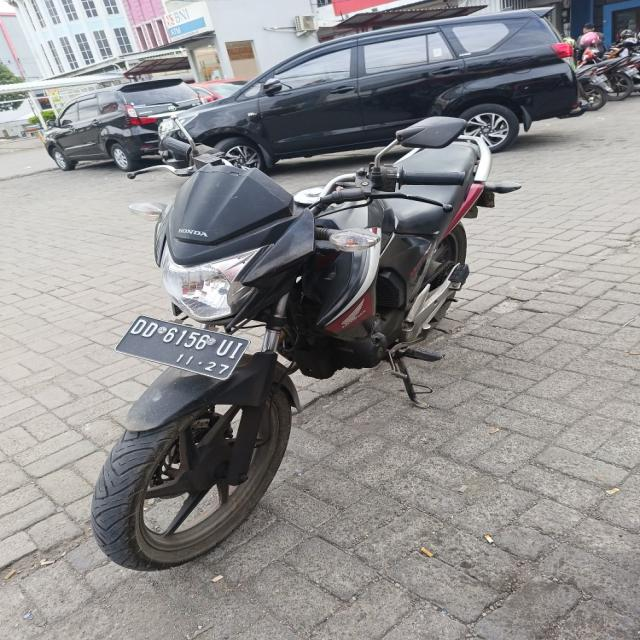plates: (109, 315, 256, 386)
